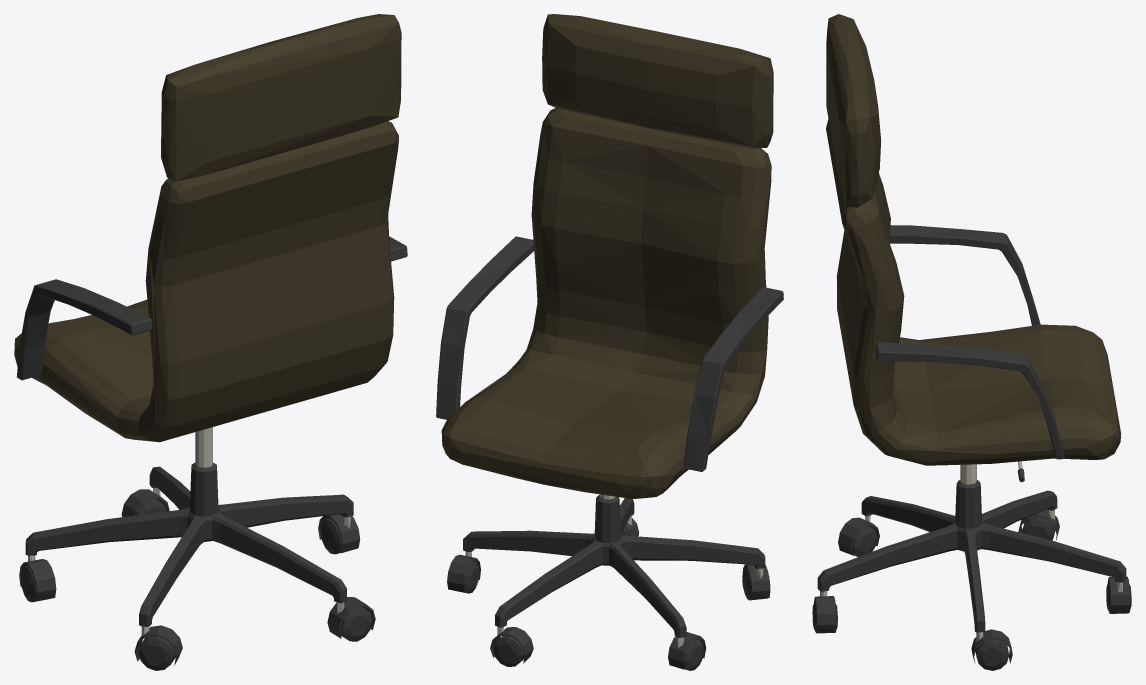
The model's file is DeskFullChair.glb.
3 renders of one model, left to right at view 1: azimuth 30°, elevation 25°; view 2: azimuth 150°, elevation 25°; view 3: azimuth 270°, elevation 25°, orthographic. The views are drawn at different scales.
Parts seen in each view (by area): view 1: DeskFullChair; view 2: DeskFullChair; view 3: DeskFullChair.
Part boxes in pixels (x1=…): DeskFullChair: x1=14, y1=14, x2=407, y2=670; DeskFullChair: x1=436, y1=14, x2=783, y2=670; DeskFullChair: x1=812, y1=14, x2=1131, y2=670.
Bounding box in the file's own units: 0.751 × 1.39 × 0.7384.
